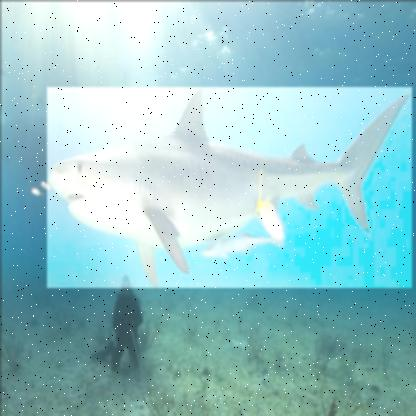tiger-shark: (45, 86, 411, 288)
